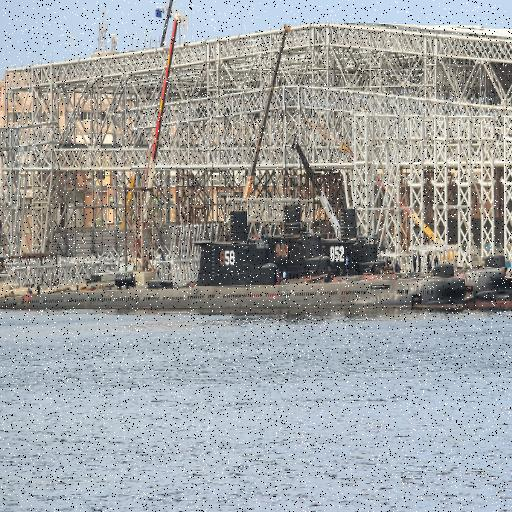submarine: (1, 235, 465, 314), (267, 235, 512, 313), (325, 237, 512, 312)
